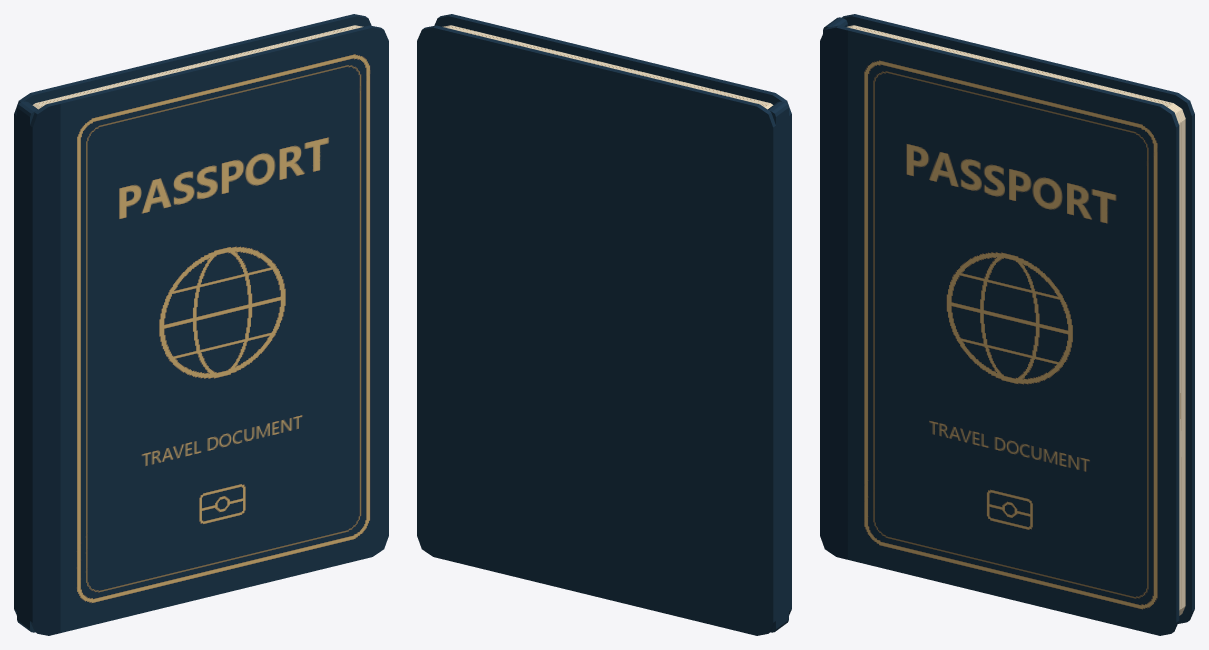
The model's file is Tail Passport.obj.
The picture shows the model from 3 angles, left to right: view 1: azimuth 30°, elevation 25°; view 2: azimuth 150°, elevation 25°; view 3: azimuth 330°, elevation 25°; orthographic projection.
Parts seen in each view (by area): view 1: TailPassport; view 2: TailPassport; view 3: TailPassport.
Part boxes in pixels (x1,y1,x2,y2): TailPassport: (14,14,388,635); TailPassport: (417,14,791,635); TailPassport: (820,14,1194,635).
Bounding box in the file's own units: 0.088 × 0.125 × 0.008.
1 material, 1 textured.
